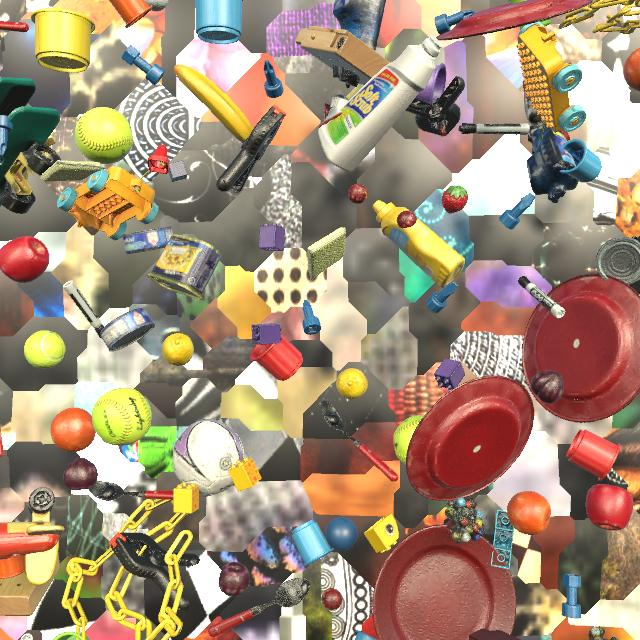ycb_006_mustard_bottle: (372, 200, 465, 289)
ycb_007_tuna_fish_can: (100, 308, 155, 352), (595, 237, 640, 285), (121, 226, 173, 254)
ycb_009_gelatin_box: (0, 427, 4, 457)
ycb_010_potted_meat_can: (147, 234, 221, 300)
ycb_011_banana: (174, 64, 253, 143)
ycb_012_strawberry: (442, 185, 468, 214)
ycb_013_apple: (0, 236, 49, 283), (586, 484, 633, 531)
ycb_014_lemon: (162, 333, 194, 366), (336, 368, 368, 399)
ycb_017_orange: (50, 407, 96, 452), (507, 491, 551, 535), (623, 48, 640, 91)
ycb_018_plum: (63, 458, 98, 490), (218, 562, 250, 597), (531, 371, 564, 404)
